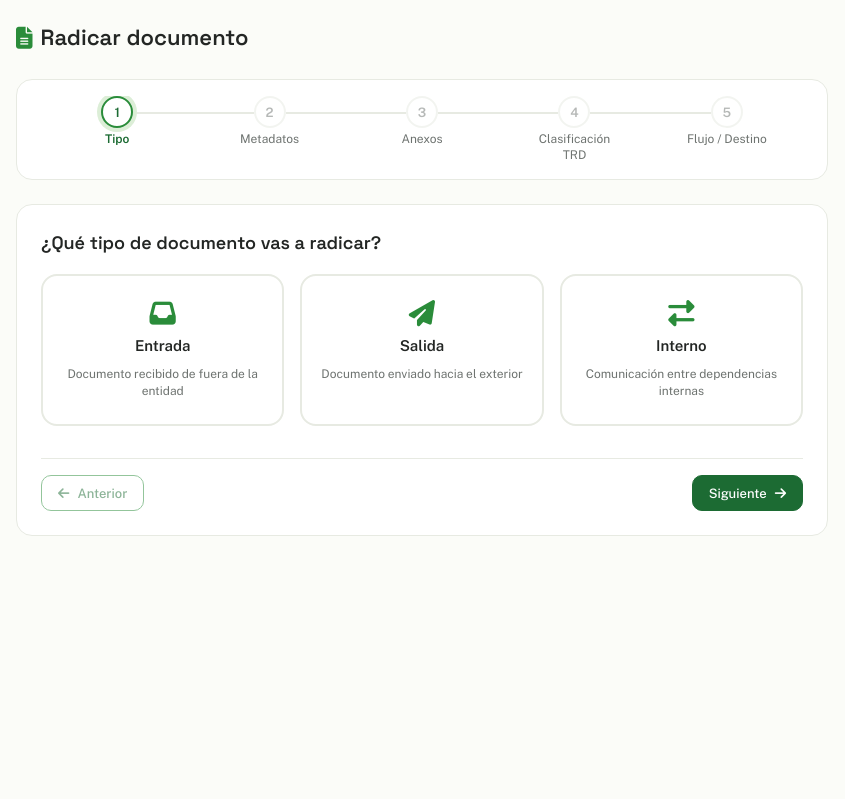
Test: vistas — el botón obedece a generationAvailable › radicar sin generación: no hay botón
The image size is (845, 799).
Click the radio button labelled "Salida Documento enviado hacia el exterior" at (422, 350), box [300,274,544,426]
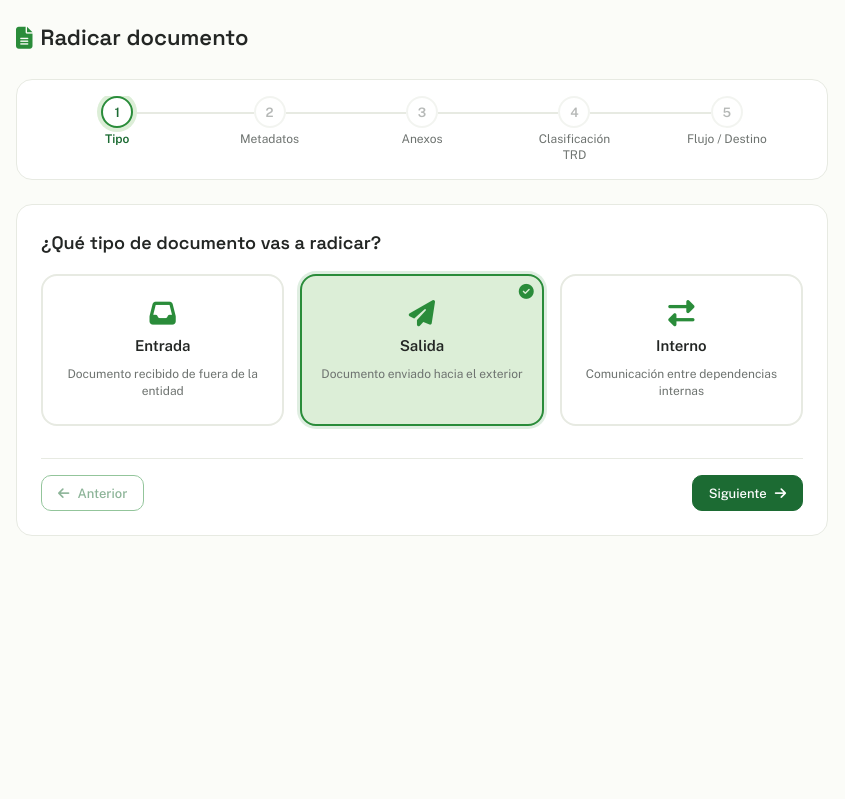
Click the 2nd button named "Siguiente" at (747, 493), box [692,475,803,511]
(page scrolled)
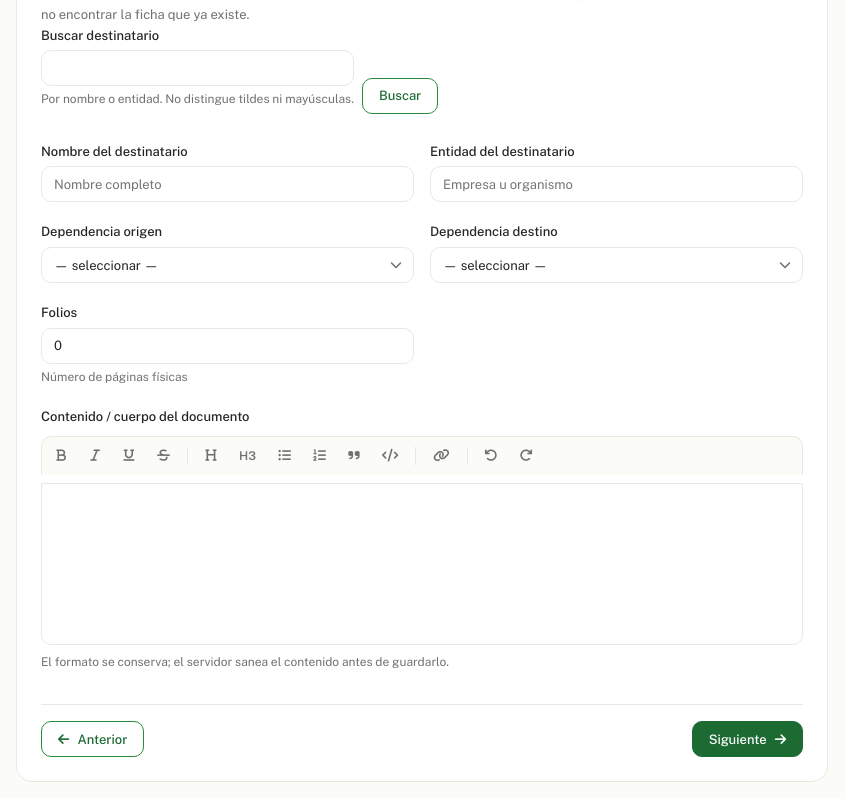
Check: the text "Contenido / cuerpo del documento" is shown, box [41,409,250,424]
